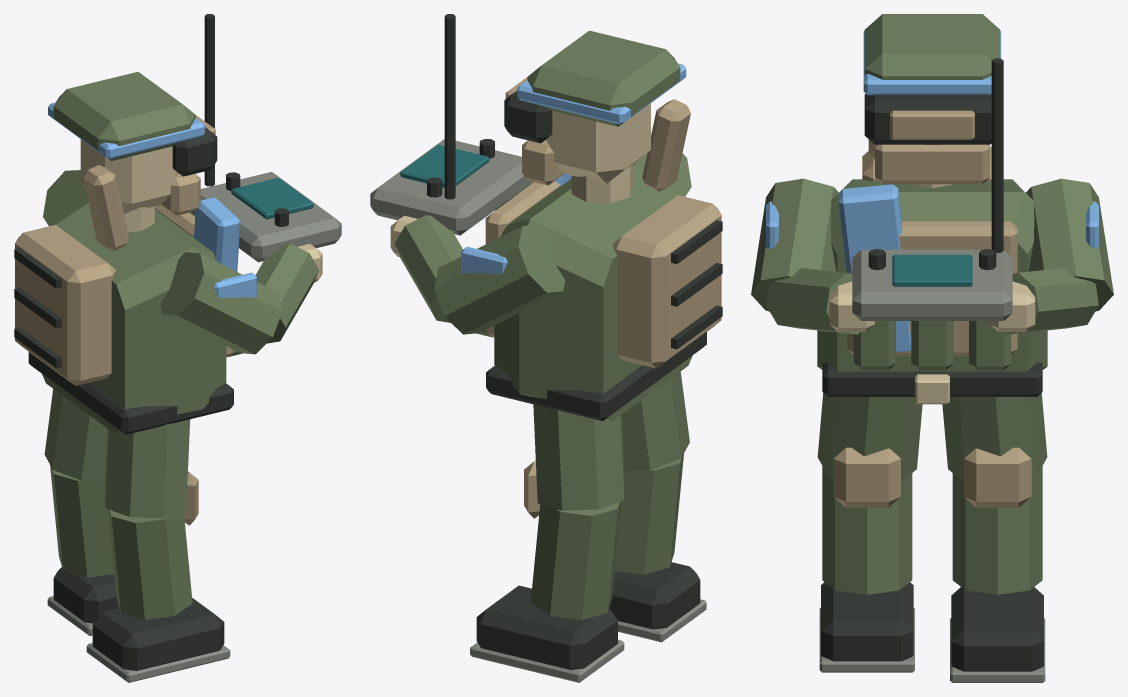
Rendered from fpv_operator.glb.
3 renders of one model, left to right at view 1: azimuth 30°, elevation 25°; view 2: azimuth 150°, elevation 25°; view 3: azimuth 270°, elevation 25°, orthographic. The views are drawn at different scales.
Parts seen in each view (by area): view 1: fpv_operator; view 2: fpv_operator; view 3: fpv_operator.
Part boxes in pixels (bbox=[...]): fpv_operator: bbox=[14, 14, 341, 682]; fpv_operator: bbox=[370, 14, 722, 682]; fpv_operator: bbox=[751, 14, 1113, 682].
Bounding box in the file's own units: 0.73 × 1.45 × 0.74.
